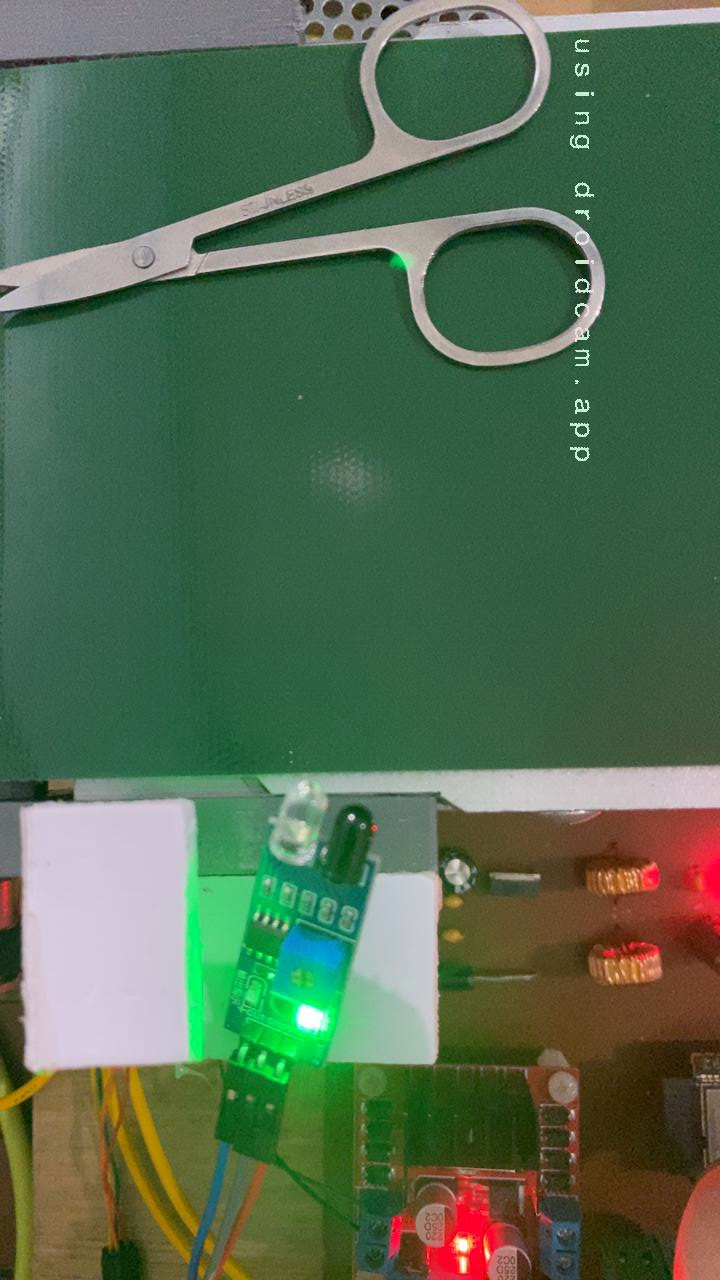scissor: (0, 38, 614, 374)
